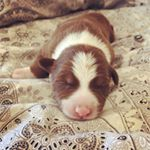puppy: (46, 12, 121, 125)
